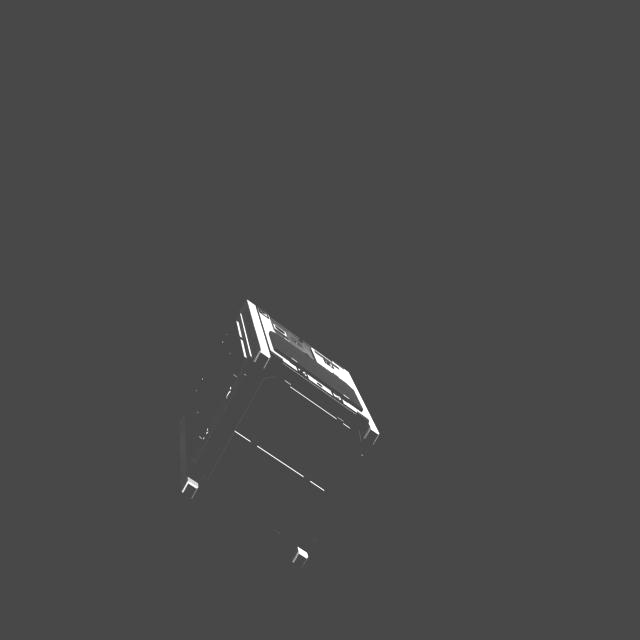satellite: (146, 301, 389, 579)
